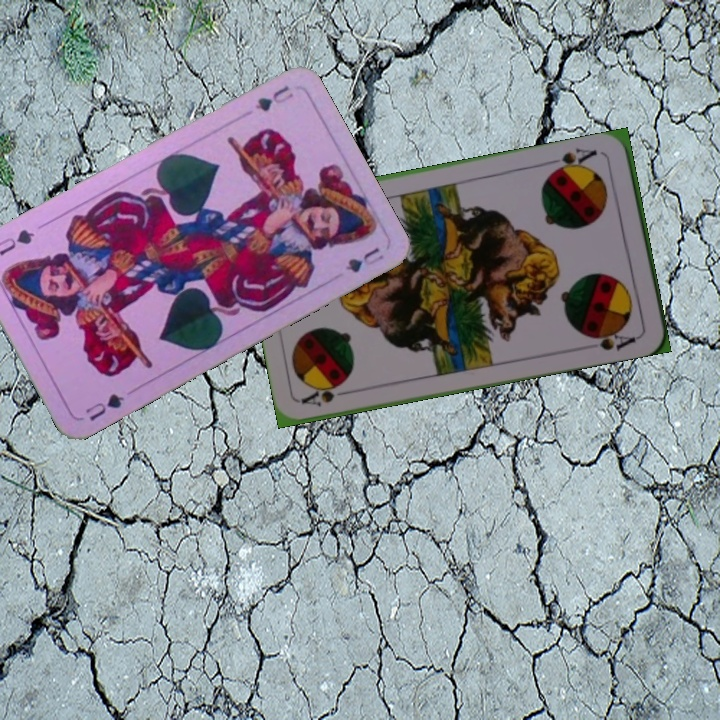GU: (81, 389, 128, 424), (251, 81, 296, 114)
SA: (298, 379, 357, 410), (547, 144, 600, 175)
